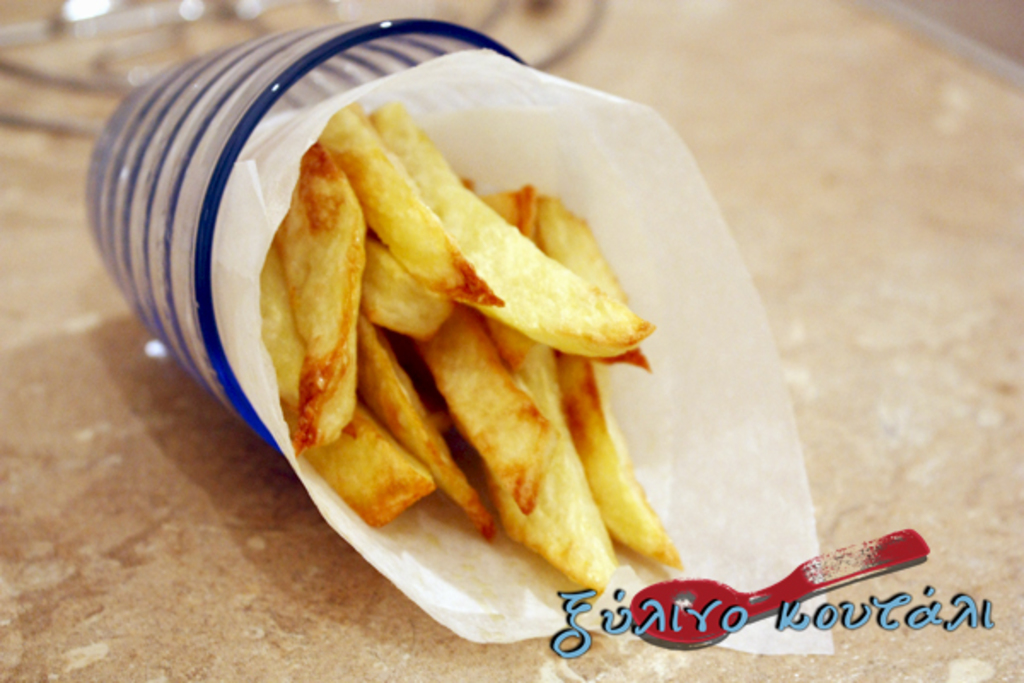French fries: (209, 78, 684, 587)
